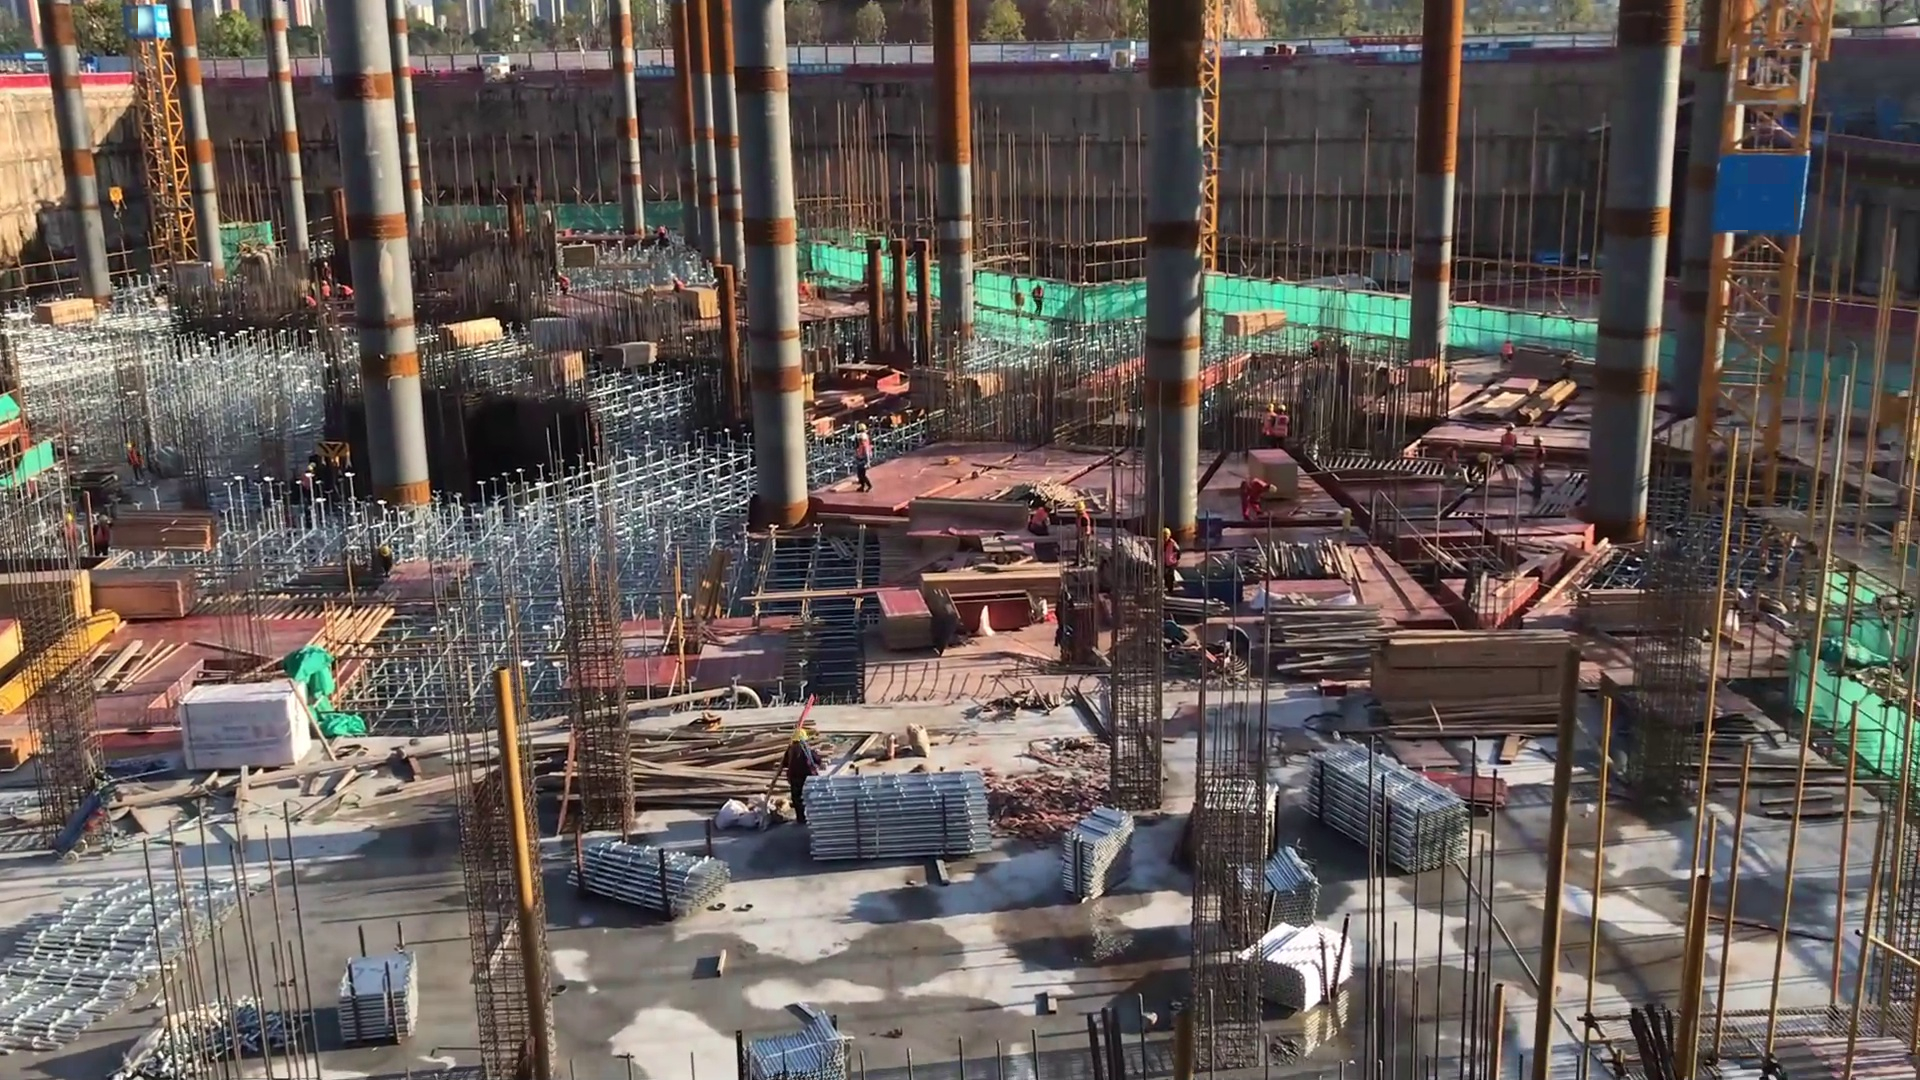board: (1411, 763, 1519, 822), (874, 586, 935, 651), (683, 285, 719, 319)
helmet: (787, 727, 814, 745), (1265, 479, 1280, 495), (1041, 499, 1056, 513), (1075, 499, 1088, 516), (853, 420, 869, 433), (1161, 528, 1173, 540), (123, 439, 134, 453), (96, 514, 110, 526), (61, 511, 74, 521), (1504, 421, 1515, 430)
hook: (1184, 561, 1246, 607), (101, 176, 134, 224), (319, 435, 350, 466)
person: (780, 724, 822, 835), (1147, 522, 1188, 605), (1523, 437, 1555, 527), (1233, 475, 1288, 521), (1026, 493, 1060, 564), (849, 432, 877, 500), (88, 505, 114, 574), (1072, 495, 1094, 571), (123, 435, 147, 498), (1497, 415, 1519, 479), (1465, 447, 1492, 483), (1442, 432, 1463, 480), (1257, 400, 1273, 453), (1273, 403, 1289, 453), (335, 279, 357, 306), (1498, 336, 1516, 366), (550, 273, 570, 300), (301, 295, 316, 323), (320, 259, 334, 281), (320, 278, 331, 304)
scaffold: (1293, 742, 1469, 873), (791, 770, 1001, 870), (568, 824, 734, 926), (1227, 842, 1333, 964), (1058, 794, 1136, 924), (750, 1010, 842, 1080)
slogan: (791, 59, 850, 78), (630, 69, 676, 88)
vest: (1158, 537, 1179, 572), (1242, 477, 1266, 501), (1075, 512, 1093, 542), (1030, 507, 1050, 534), (856, 443, 872, 469), (1275, 414, 1288, 444), (1502, 431, 1516, 455), (95, 527, 111, 549), (1263, 412, 1273, 437)
wood: (1368, 633, 1586, 735), (637, 729, 795, 806), (1260, 599, 1378, 683), (78, 567, 201, 633), (1574, 583, 1717, 633), (102, 505, 222, 558), (923, 571, 1065, 608), (1221, 306, 1295, 342), (440, 315, 507, 351), (597, 339, 661, 374), (37, 295, 92, 335)
